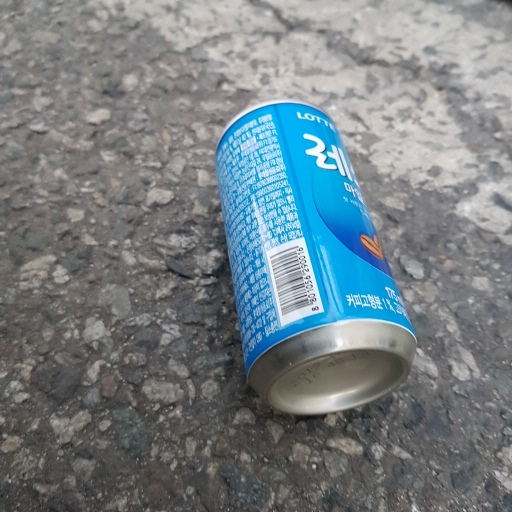Metal_0: (211, 97, 418, 422)
